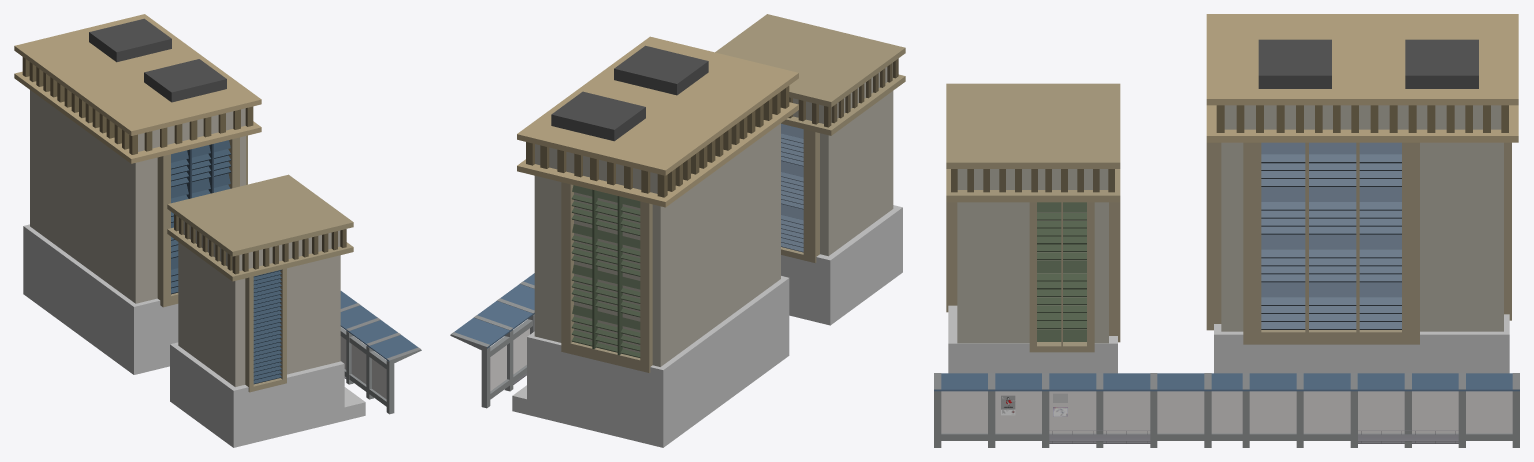
File: Bus Station with TwoBuilding.fbx
3 views of the same model, side by side, from view 1: azimuth 30°, elevation 25°; view 2: azimuth 150°, elevation 25°; view 3: azimuth 270°, elevation 25° (orthographic). The views are drawn at different scales.
Visible parts, largest first — view 1: Cube.038, Cube.037, Cube.193, Cube.039, Cube.036, Cube.055, Cube.194, Cube.331, Cube.332, Cube.022, Cube.333, Cube.173 (+7 smaller); view 2: Cube.038, Cube.039, Cube.193, Cube.037, Cube.055, Cube.036, Cube.194, Cube.331, Cube.332, Cube.296, Cube.049, Cube.272 (+12 smaller); view 3: Cube.038, Cube.193, Cube.055, Cube.037, Cube.039, Cube.049, Cube.036, Cube.022, Cube.194, Cube.241, Cube.331, Cube.332 (+45 smaller).
Boxes of the visible parts, <box> form: Cube.038: <box>30,90,245,303</box>; Cube.037: <box>178,217,340,386</box>; Cube.193: <box>14,14,261,135</box>; Cube.039: <box>23,224,178,374</box>; Cube.036: <box>170,342,365,447</box>; Cube.055: <box>167,174,353,256</box>; Cube.194: <box>14,71,261,163</box>; Cube.331: <box>89,18,171,62</box>; Cube.332: <box>144,59,226,102</box>; Cube.022: <box>340,291,421,361</box>; Cube.333: <box>157,154,170,307</box>; Cube.173: <box>245,268,286,392</box>; Cube.038: <box>534,123,780,366</box>; Cube.039: <box>512,276,789,447</box>; Cube.193: <box>517,36,798,175</box>; Cube.037: <box>793,63,893,256</box>; Cube.055: <box>715,14,905,107</box>; Cube.036: <box>781,205,902,325</box>; Cube.194: <box>517,102,798,207</box>; Cube.331: <box>551,91,645,141</box>; Cube.332: <box>614,45,708,95</box>; Cube.296: <box>781,129,819,262</box>; Cube.049: <box>454,273,534,348</box>; Cube.272: <box>640,201,652,372</box>; Cube.038: <box>1221,105,1503,331</box>; Cube.193: <box>1206,14,1518,105</box>; Cube.055: <box>946,83,1120,168</box>; Cube.037: <box>957,169,1108,343</box>; Cube.039: <box>1214,314,1509,373</box>; Cube.049: <box>1211,373,1519,391</box>; Cube.036: <box>948,305,1117,373</box>; Cube.022: <box>934,373,1211,391</box>; Cube.194: <box>1206,105,1518,142</box>; Cube.241: <box>1243,142,1261,344</box>; Cube.331: <box>1405,39,1478,88</box>; Cube.332: <box>1258,39,1331,88</box>.
Size of the model in its own units: 994 by 1298 by 2006.
